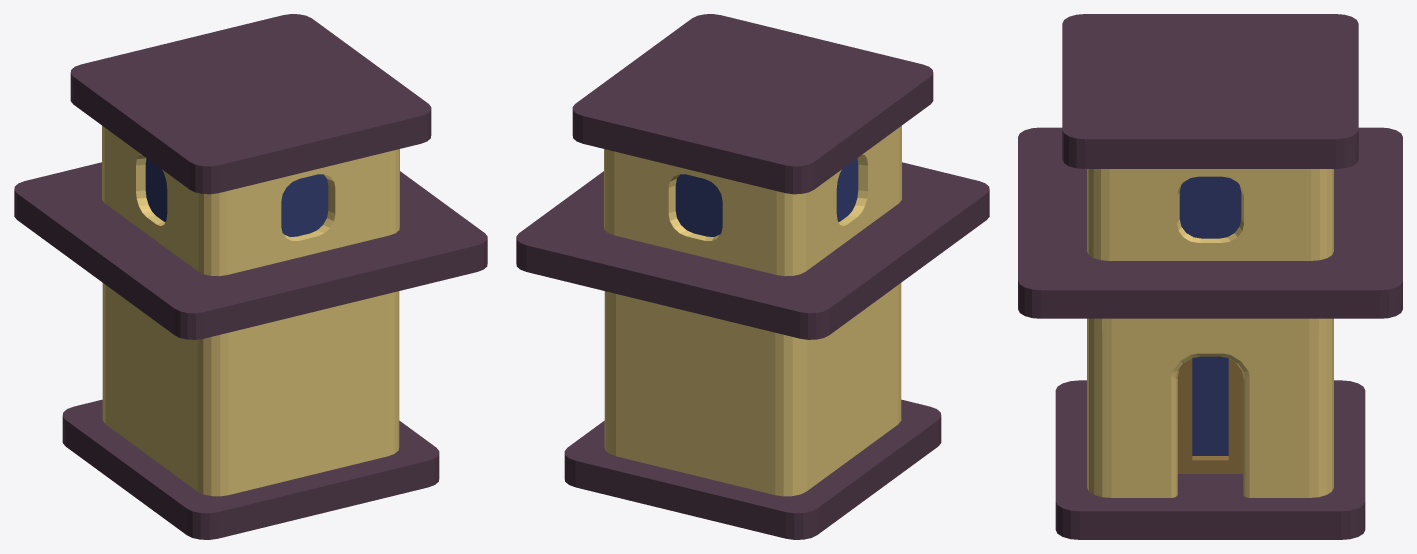
The model's file is TTMBuilding.fbx.
3 renders of one model, left to right at view 1: azimuth 30°, elevation 25°; view 2: azimuth 150°, elevation 25°; view 3: azimuth 270°, elevation 25°, orthographic. The views are drawn at different scales.
Visible parts, largest first — view 1: TTMBuilding; view 2: TTMBuilding; view 3: TTMBuilding.
Part boxes in pixels (x1=…): TTMBuilding: x1=14, y1=14, x2=487, y2=539; TTMBuilding: x1=516, y1=14, x2=989, y2=539; TTMBuilding: x1=1018, y1=14, x2=1402, y2=539.
Bounding box in the file's own units: 5.25 × 5.99 × 5.25.
